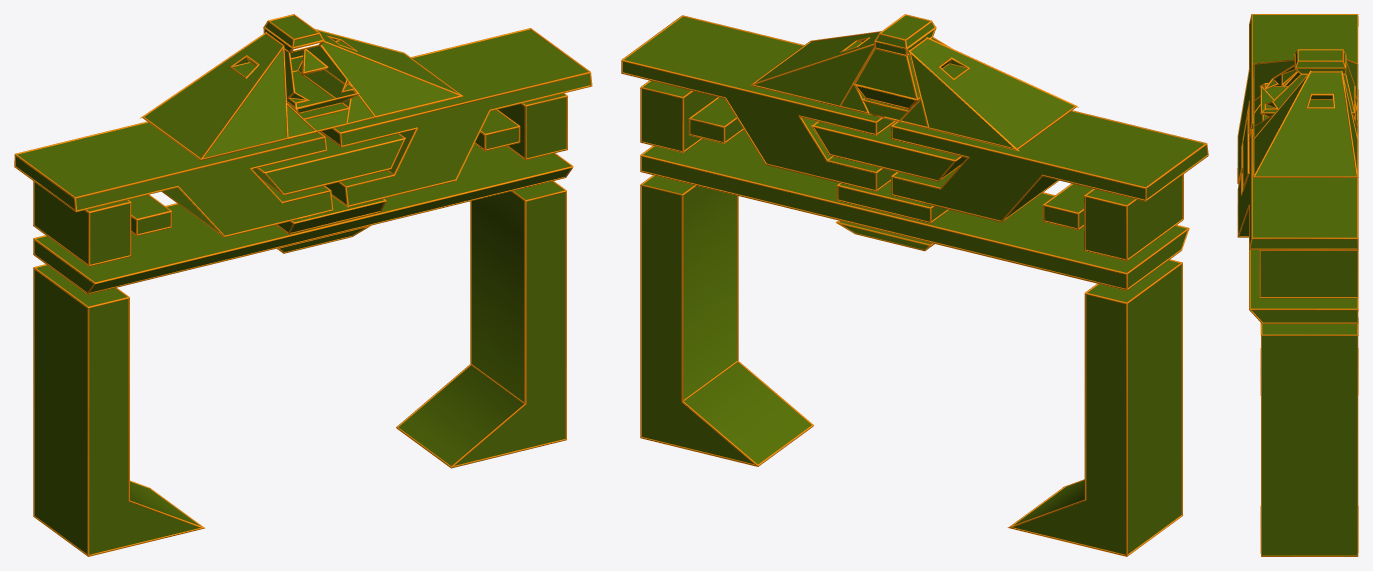
The model's file is tron_recognizer.glb.
The picture shows the model from 3 angles, left to right: view 1: azimuth 30°, elevation 25°; view 2: azimuth 150°, elevation 25°; view 3: azimuth 270°, elevation 25°; orthographic projection. The views are drawn at different scales.
Visible parts, largest first — view 1: reco, reco_lines; view 2: reco, reco_lines; view 3: reco, reco_lines.
Part boxes in pixels (x1,y1,x2,y2): reco: [16, 15, 590, 554]; reco_lines: [14, 14, 592, 556]; reco: [623, 15, 1207, 554]; reco_lines: [621, 14, 1208, 556]; reco: [1238, 15, 1357, 555]; reco_lines: [1237, 14, 1358, 556].
Size of the model in its own units: 100 by 82.82 by 22.89.
